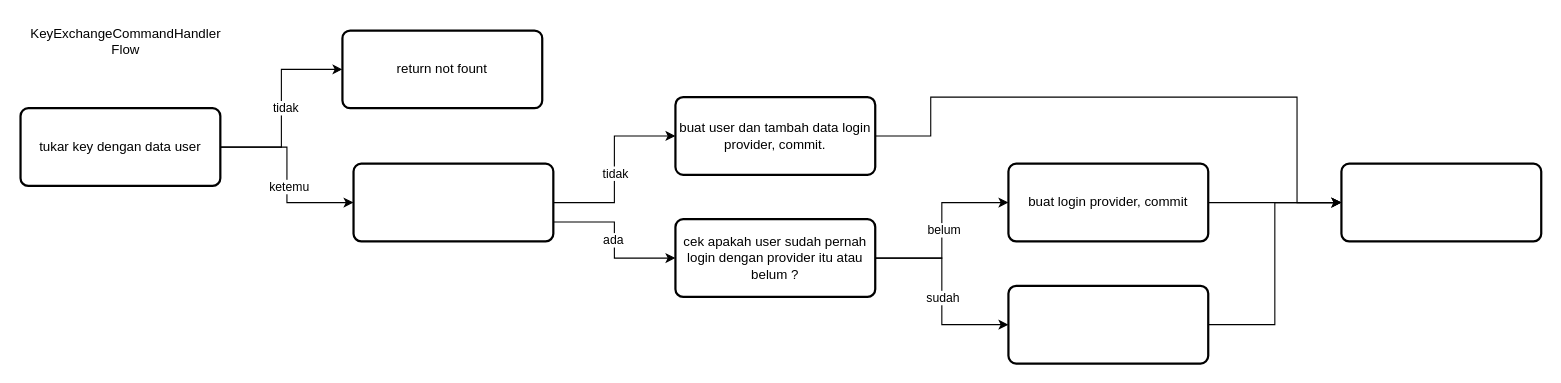
Some shapes in this 1561 by 383 pixel diagram are drawn without their labels. Here are the shapes that lost their labels. From the top down, the centre of each, then its label:
At (453,202): "user sudah ada di db ?".
At (1441,202): "buat jwt, return".
At (1108,324): "commit".
